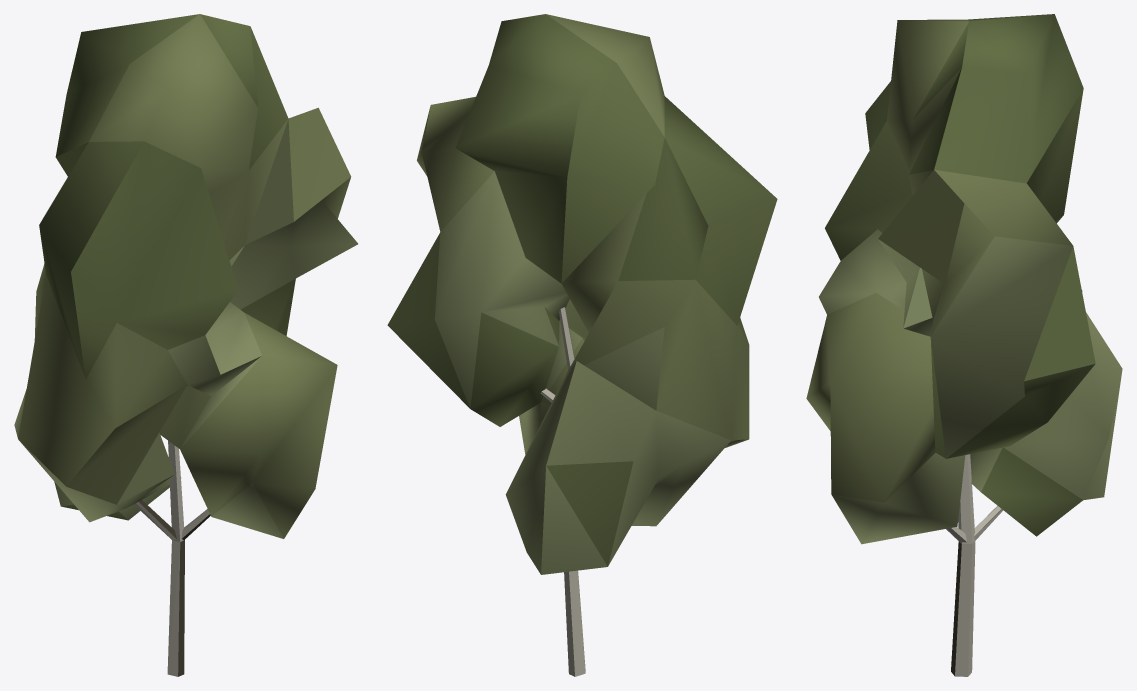
File: source-approved.glb
The picture shows the model from 3 angles, left to right: view 1: azimuth 30°, elevation 25°; view 2: azimuth 150°, elevation 25°; view 3: azimuth 270°, elevation 25°; orthographic projection. The views are drawn at different scales.
Visible parts, largest first — view 1: Берёза; view 2: Берёза; view 3: Берёза.
Part boxes in pixels (<box>): Берёза: <box>14,14,357,676</box>; Берёза: <box>387,14,777,676</box>; Берёза: <box>806,14,1122,676</box>.
Size of the model in its own units: 11.16 by 21.49 by 9.24.
